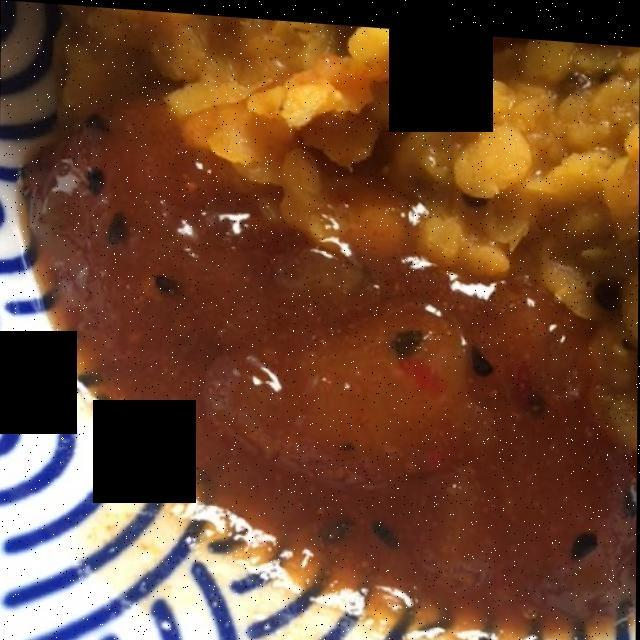soup: (107, 18, 629, 301)
